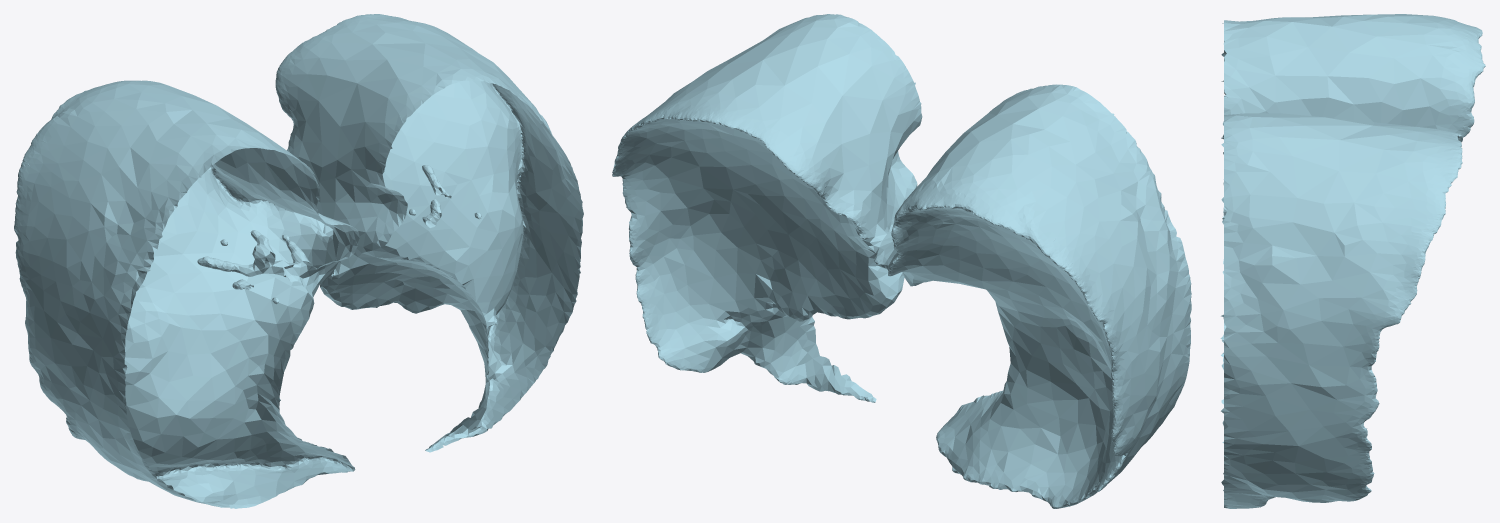
Rendered from lungs.obj.
3 renders of one model, left to right at view 1: azimuth 30°, elevation 25°; view 2: azimuth 150°, elevation 25°; view 3: azimuth 270°, elevation 25°, orthographic. The views are drawn at different scales.
Visible parts, largest first — view 1: grp1; view 2: grp1; view 3: grp1.
Boxes of the visible parts, x1,y1,x2,y2 form: grp1: [14, 14, 583, 508]; grp1: [612, 14, 1191, 508]; grp1: [1220, 14, 1485, 508].
Size of the model in its own units: 288 by 214 by 130.
